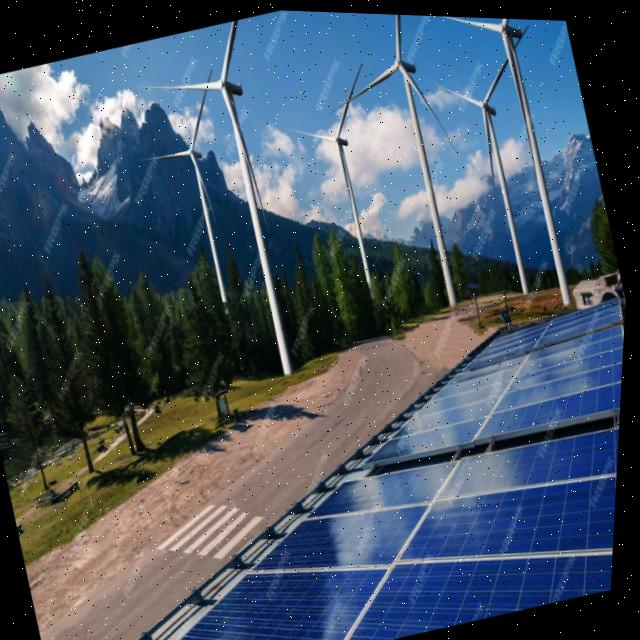wind-turbine: (356, 12, 460, 301), (445, 54, 532, 288)
